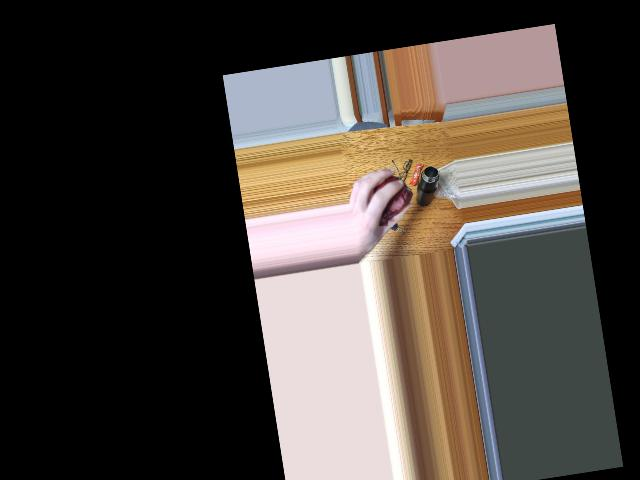onion: (371, 172, 411, 215)
